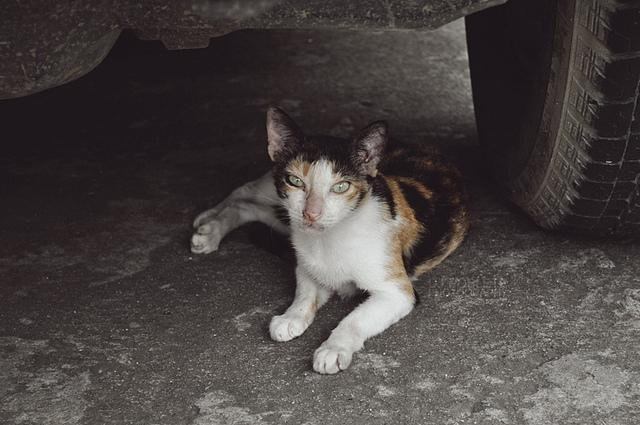car: (0, 0, 640, 242)
